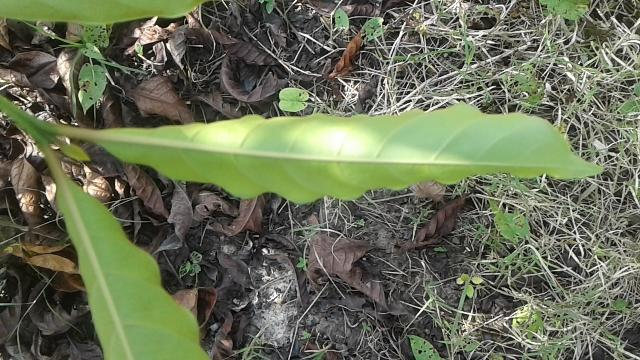healthy: (86, 106, 604, 205)
